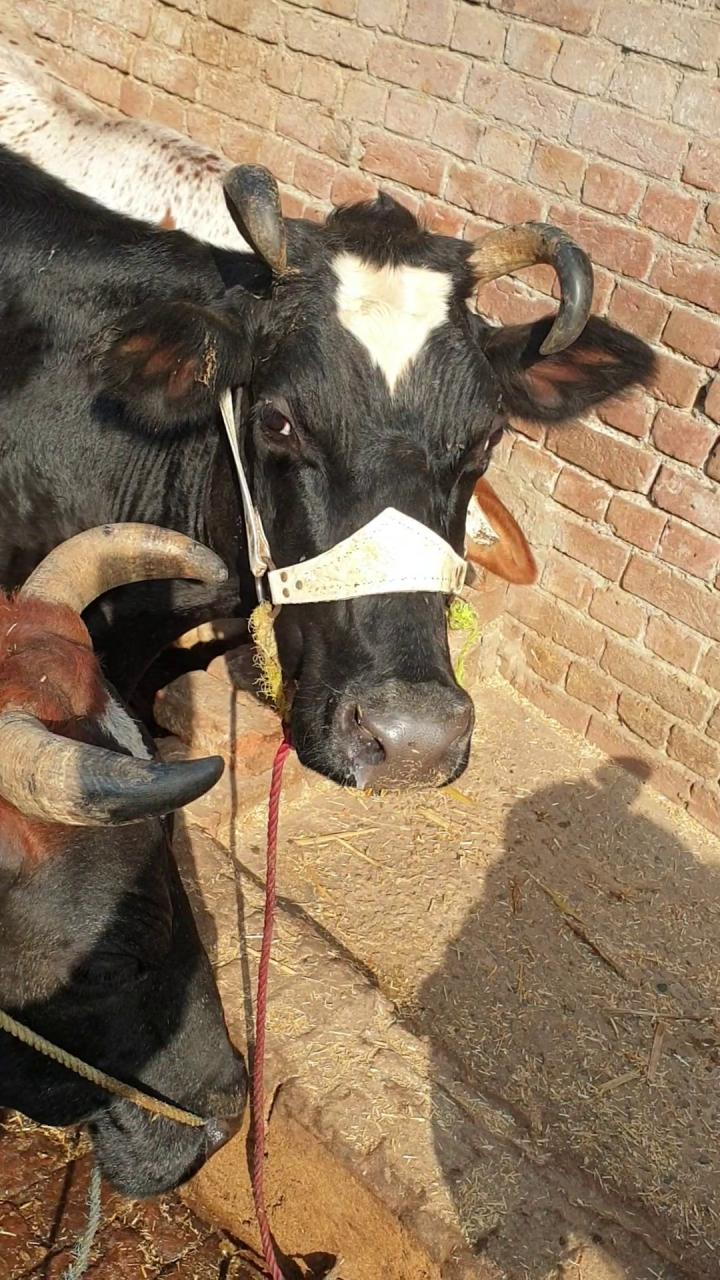cows: (0, 546, 248, 1245), (257, 182, 505, 818)
